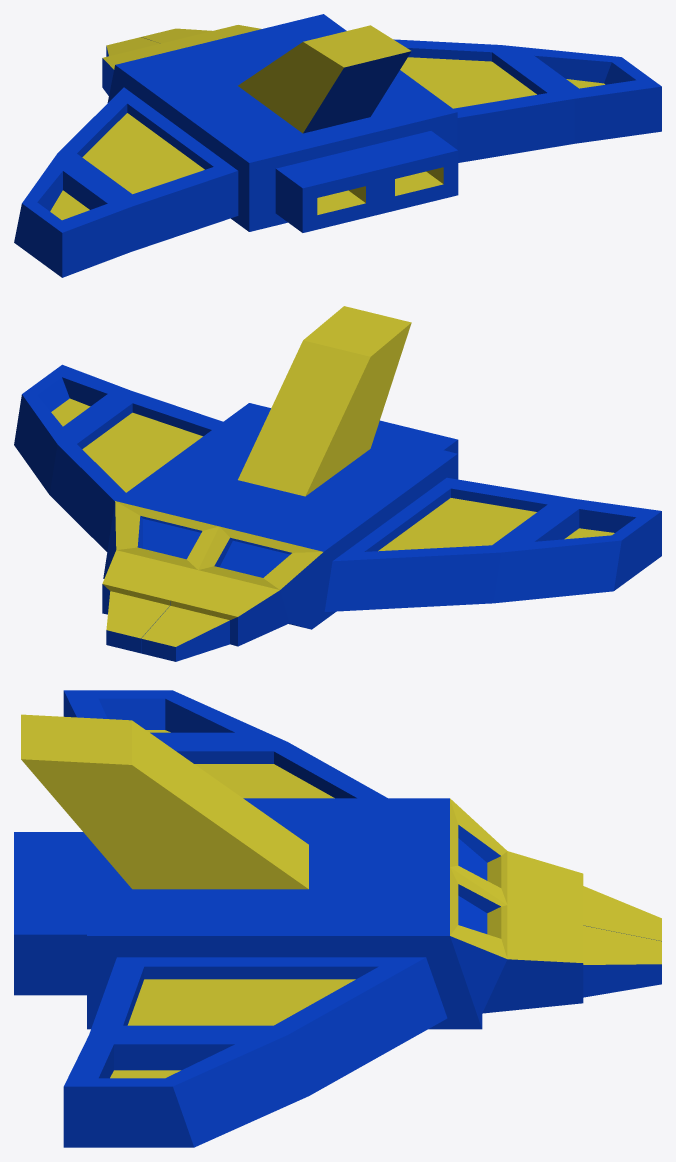
File: nave_1.fbx
The picture shows the model from 3 angles, top to bottom: view 1: azimuth 30°, elevation 25°; view 2: azimuth 150°, elevation 25°; view 3: azimuth 270°, elevation 25°; orthographic projection. The views are drawn at different scales.
Parts seen in each view (by area): view 1: Cube; view 2: Cube; view 3: Cube.
Boxes of the visible parts, left/top/right/bottom form: Cube: left=14, top=14, right=661, bottom=277; Cube: left=14, top=306, right=661, bottom=661; Cube: left=14, top=690, right=661, bottom=1147.
Size of the model in its own units: 575 by 152 by 398.
